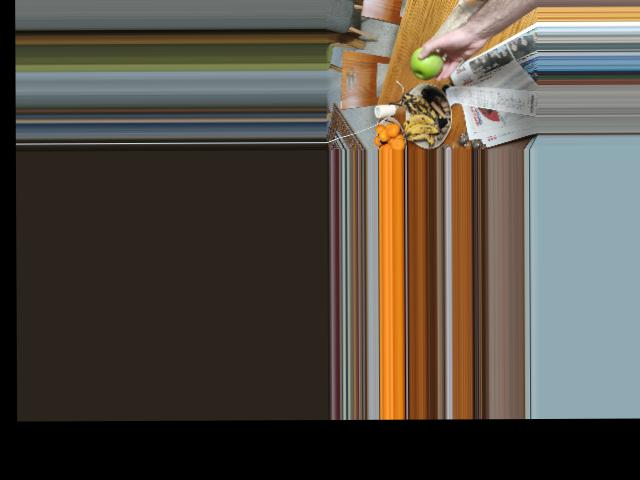apple: (407, 45, 448, 80)
